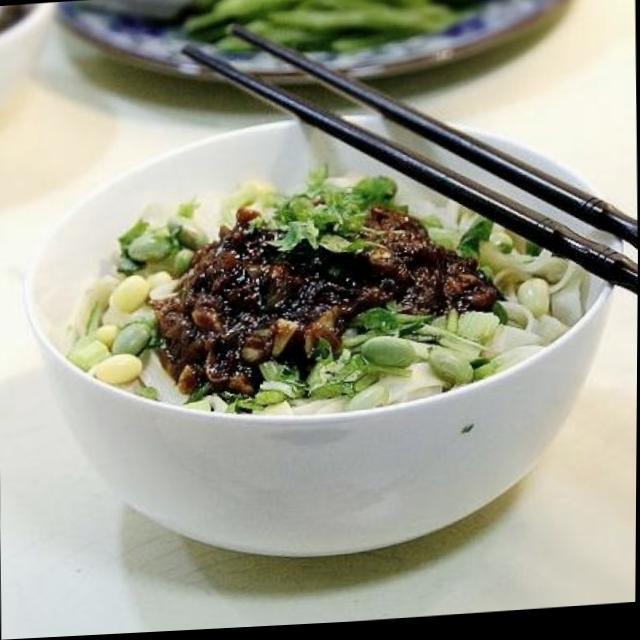面条主食: (51, 128, 609, 450)
